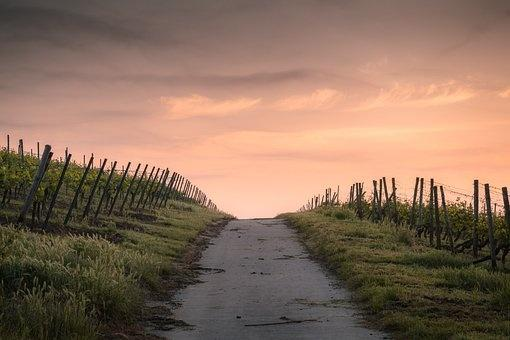field: (281, 208, 509, 338)
road: (157, 219, 385, 339)
